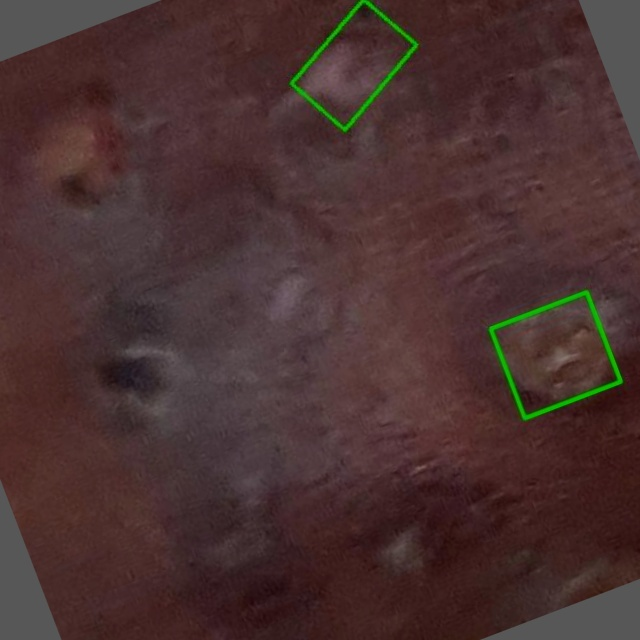Eczema: (490, 292, 620, 418), (291, 0, 417, 129)
